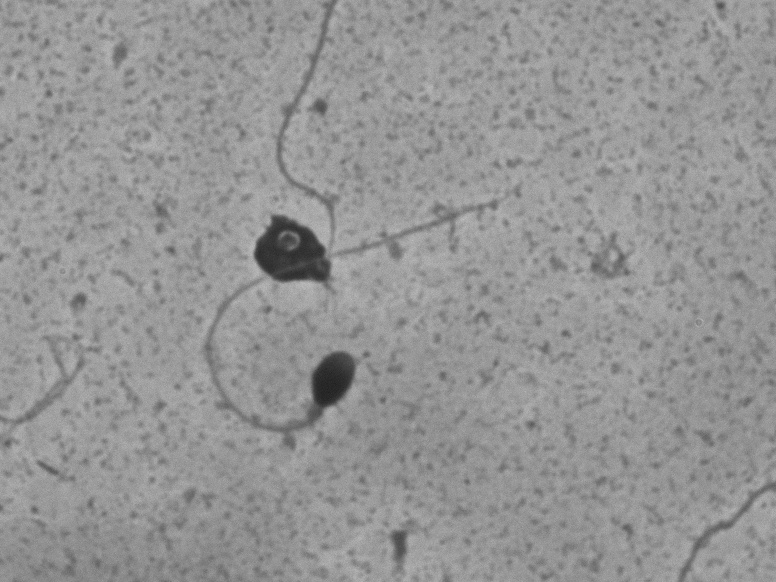Normal: (189, 179, 535, 439)
